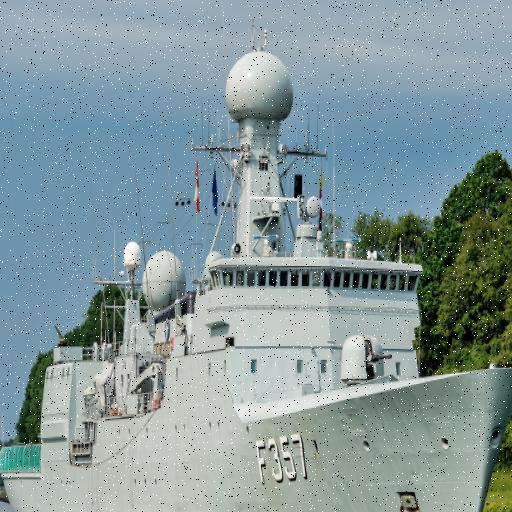Fragata: (1, 21, 512, 512)
